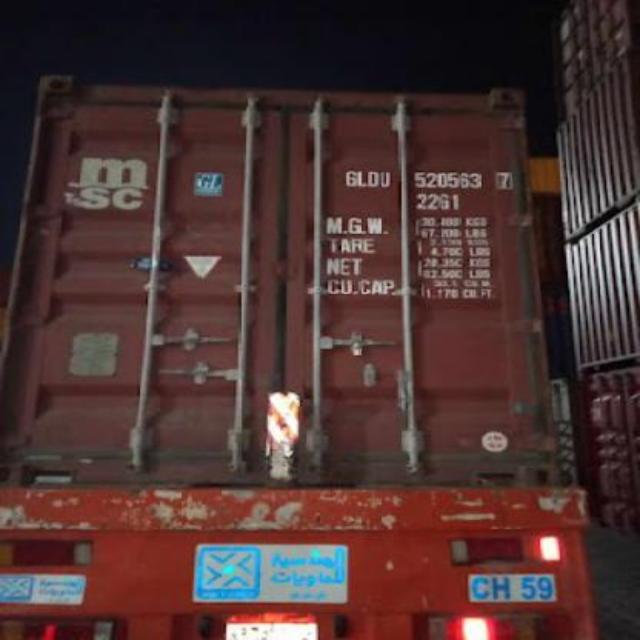0: (436, 170, 449, 186)
2: (426, 170, 438, 186)
3: (470, 170, 482, 188)
5: (446, 170, 459, 188), (416, 170, 426, 186)
6: (460, 170, 468, 186)
7: (496, 172, 512, 188)
D: (366, 170, 379, 186)
G: (344, 170, 358, 186)
L: (356, 170, 368, 186)
U: (380, 172, 392, 184)
